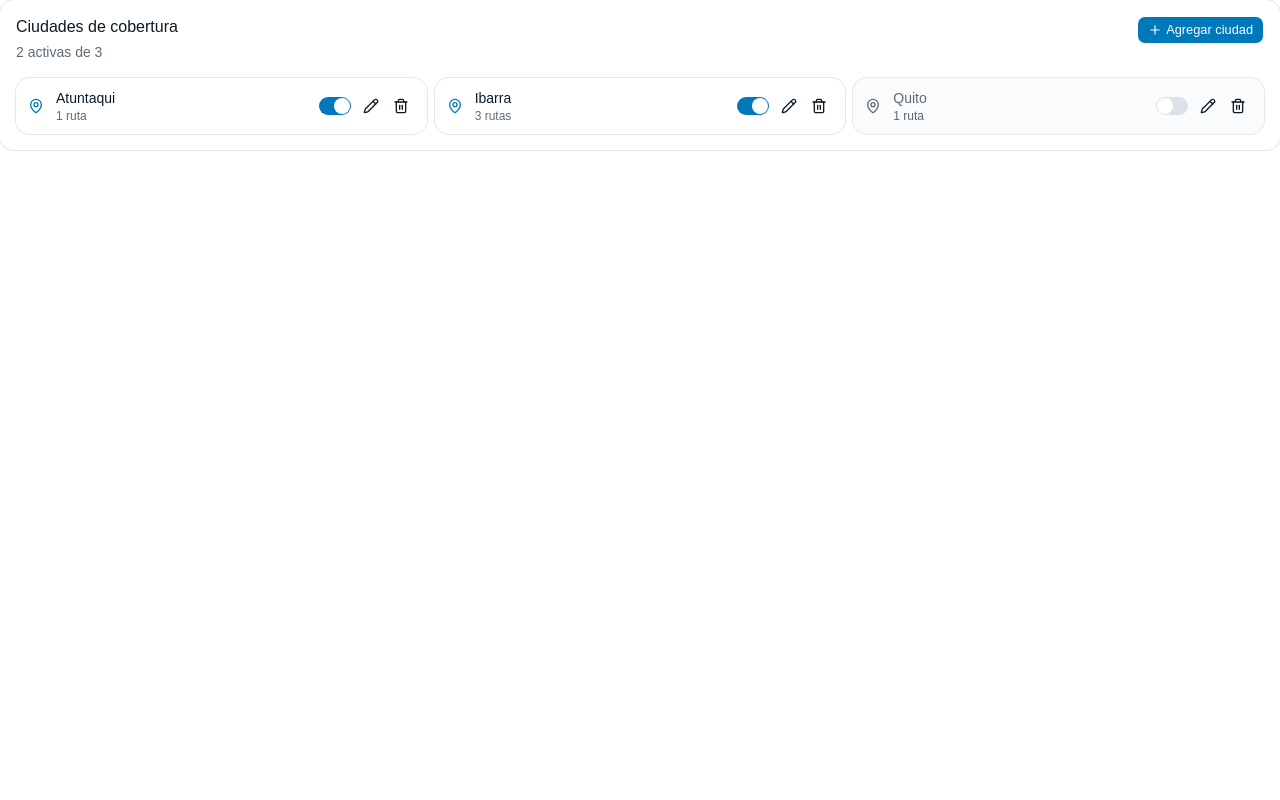
Test case: CiudadesCobertura › al eliminar una ciudad con rutas muestra el 409 que sugiere desactivarla
The image size is (1280, 800).
Click the button named "Eliminar Atuntaqui".
click(401, 106)  # box [387, 92, 415, 120]
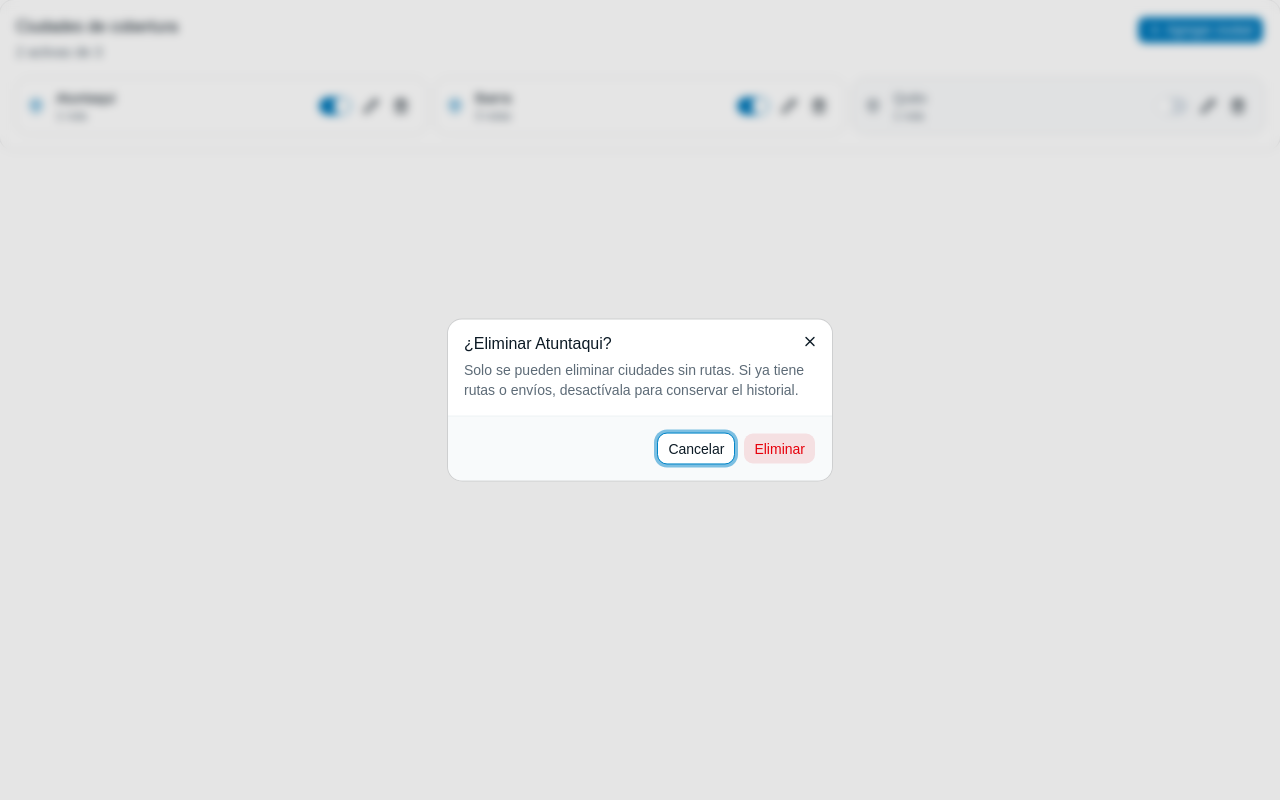
Result: the heading "¿Eliminar Atuntaqui?" is shown at [464, 334, 612, 352]
Click the button "Eliminar".
click(780, 448)  # box [743, 432, 816, 464]
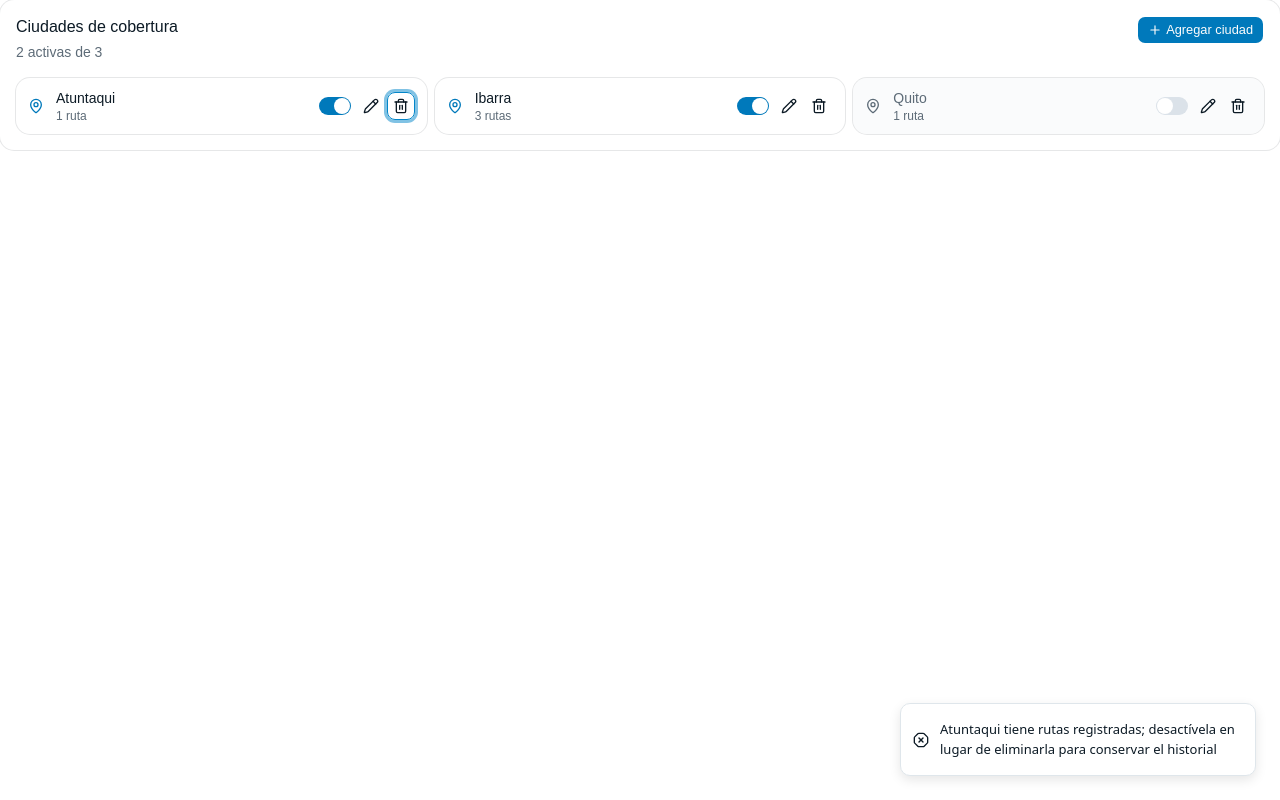
Result: the text "Atuntaqui tiene rutas registradas; desactívela en lugar de eliminarla para conservar el historial" is shown at [940, 720, 1235, 758]
